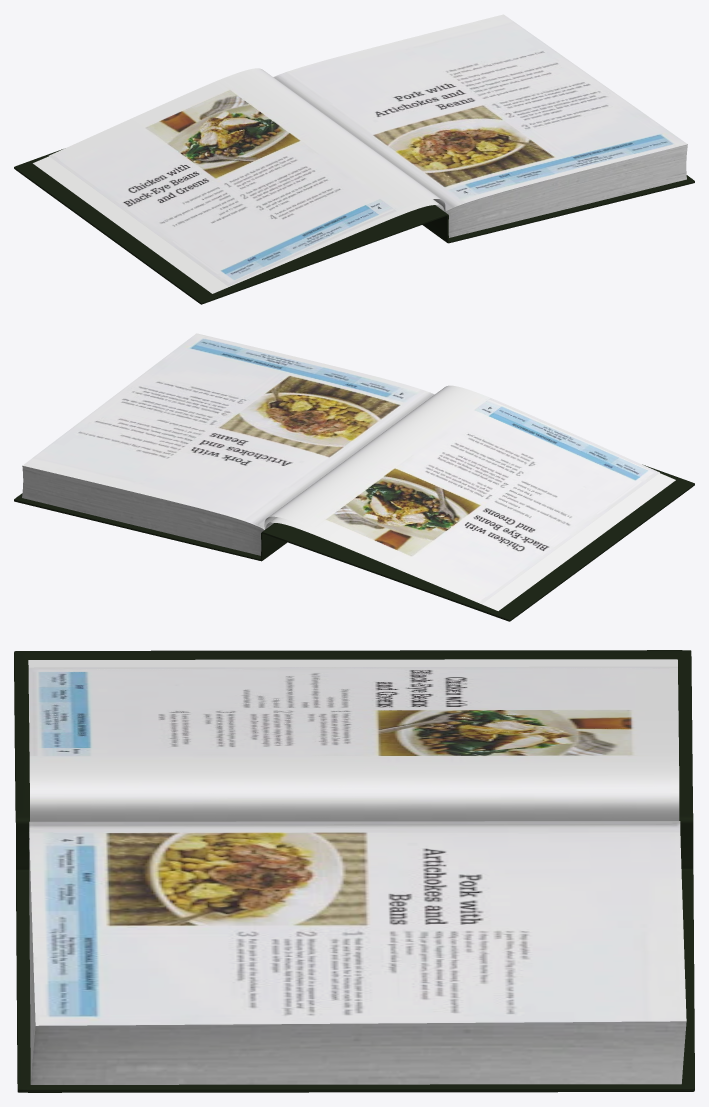
File: fit-book.glb
The picture shows the model from 3 angles, top to bottom: view 1: azimuth 30°, elevation 25°; view 2: azimuth 150°, elevation 25°; view 3: azimuth 270°, elevation 25°; orthographic projection. The views are drawn at different scales.
Size of the model in its own units: 28.16 by 2.44 by 18.41.
Materials: 3 (2 with a texture image).
